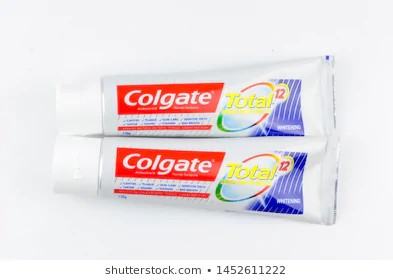colgate-total-150gm: (47, 49, 345, 137), (51, 137, 340, 221)
